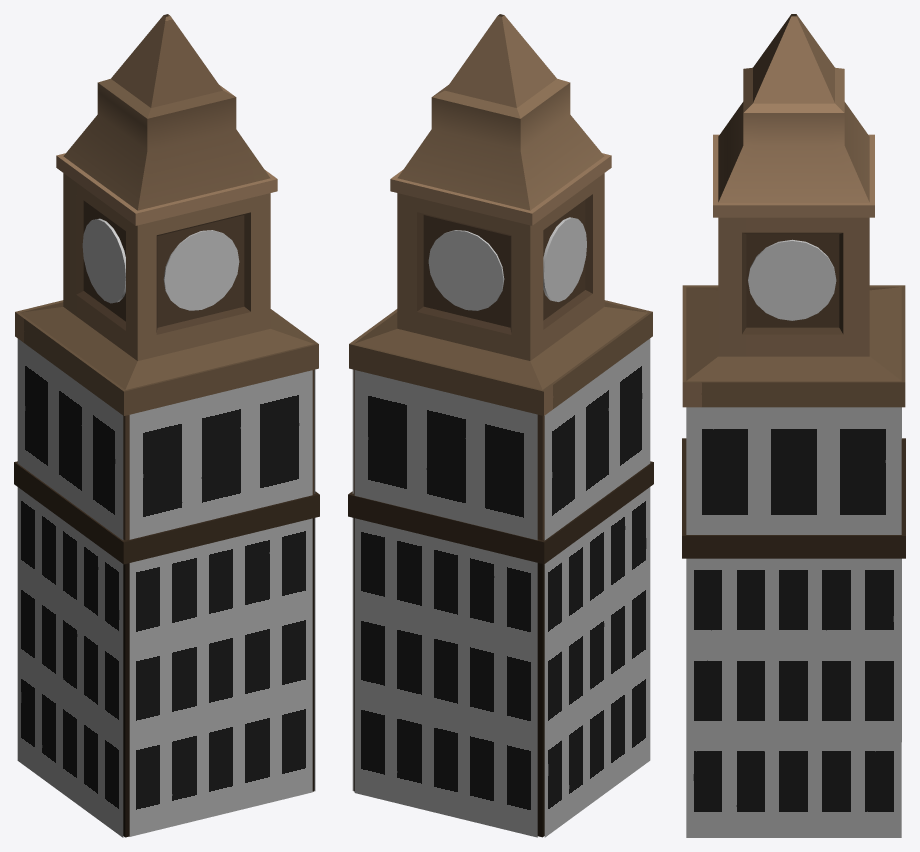
File: ClockTower.fbx
The picture shows the model from 3 angles, left to right: view 1: azimuth 30°, elevation 25°; view 2: azimuth 150°, elevation 25°; view 3: azimuth 270°, elevation 25°; orthographic projection.
Parts seen in each view (by area): view 1: polySurface230; view 2: polySurface230; view 3: polySurface230.
Part boxes in pixels (x1=…): polySurface230: x1=14, y1=14, x2=319, y2=837; polySurface230: x1=348, y1=14, x2=653, y2=837; polySurface230: x1=682, y1=14, x2=905, y2=837.
Bounding box in the file's own units: 2759 × 10215 × 2672.
